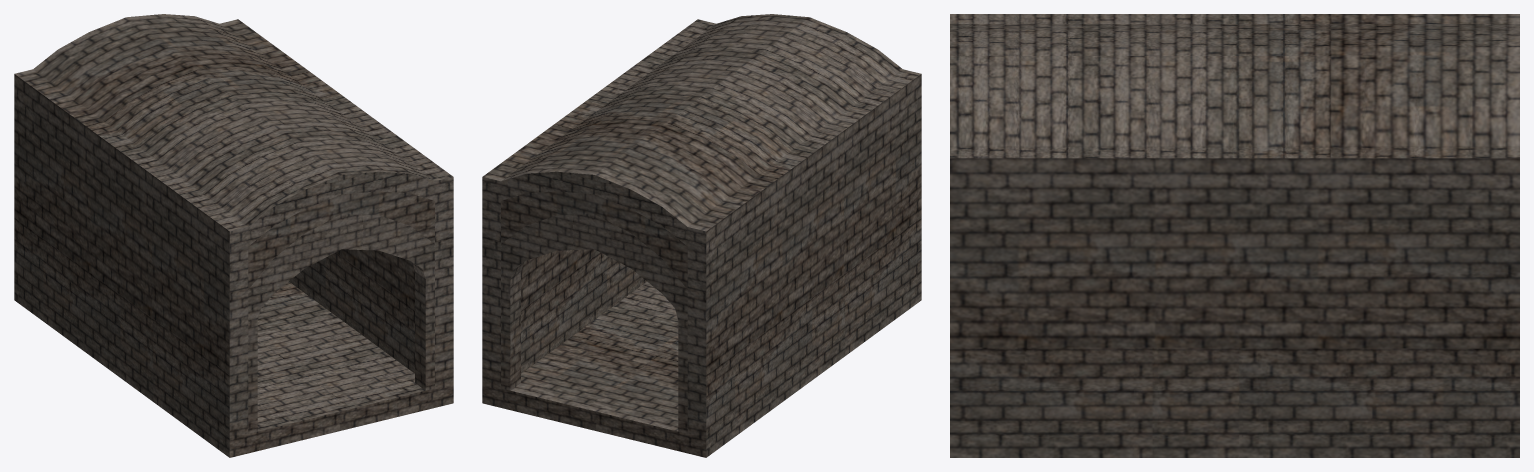
Rendered from Dungeon_1way.FBX.
3 views of the same model, side by side, from view 1: azimuth 30°, elevation 25°; view 2: azimuth 150°, elevation 25°; view 3: azimuth 270°, elevation 25° (orthographic). The views are drawn at different scales.
Visible parts, largest first — view 1: Cube_003; view 2: Cube_003; view 3: Cube_003.
Part boxes in pixels (<box>): Cube_003: <box>14,14,453,457</box>; Cube_003: <box>482,14,921,457</box>; Cube_003: <box>950,14,1519,457</box>.
Size of the model in its own units: 6 by 6.55 by 10.
